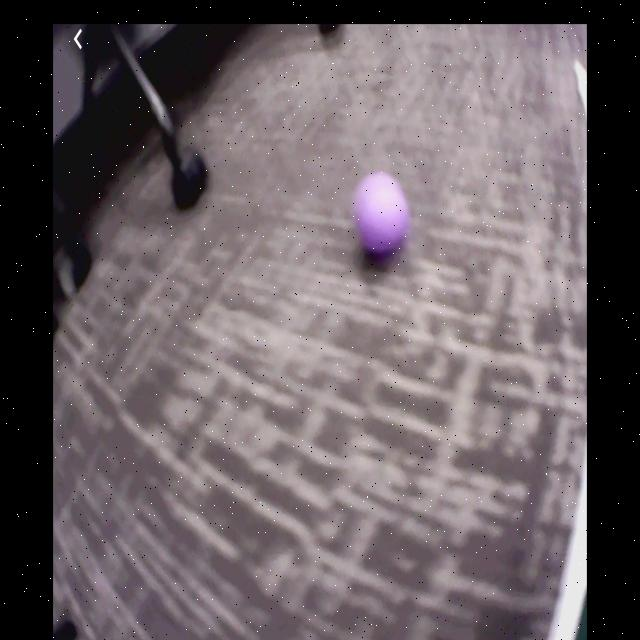ball: (357, 174, 409, 252)
